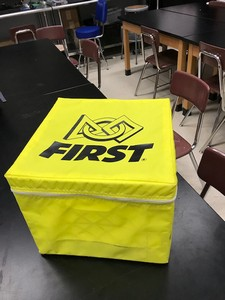cube: (4, 97, 179, 265)
